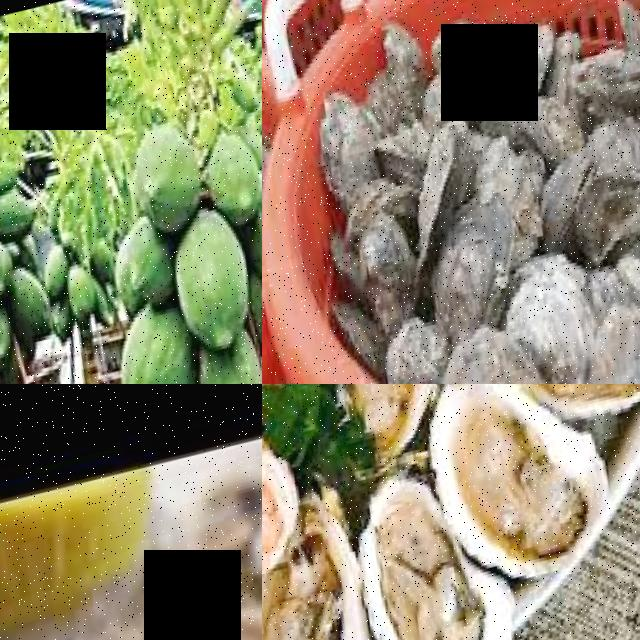oysters: (419, 384, 632, 572), (346, 461, 549, 640), (262, 550, 406, 640)
pawpaw: (166, 204, 262, 355), (124, 114, 217, 233), (108, 311, 211, 384), (200, 131, 262, 223), (8, 262, 63, 339), (197, 332, 262, 384), (0, 185, 50, 246), (66, 256, 106, 319), (242, 170, 262, 287), (41, 243, 79, 296), (0, 227, 23, 297)
shrimp: (262, 422, 312, 580)
